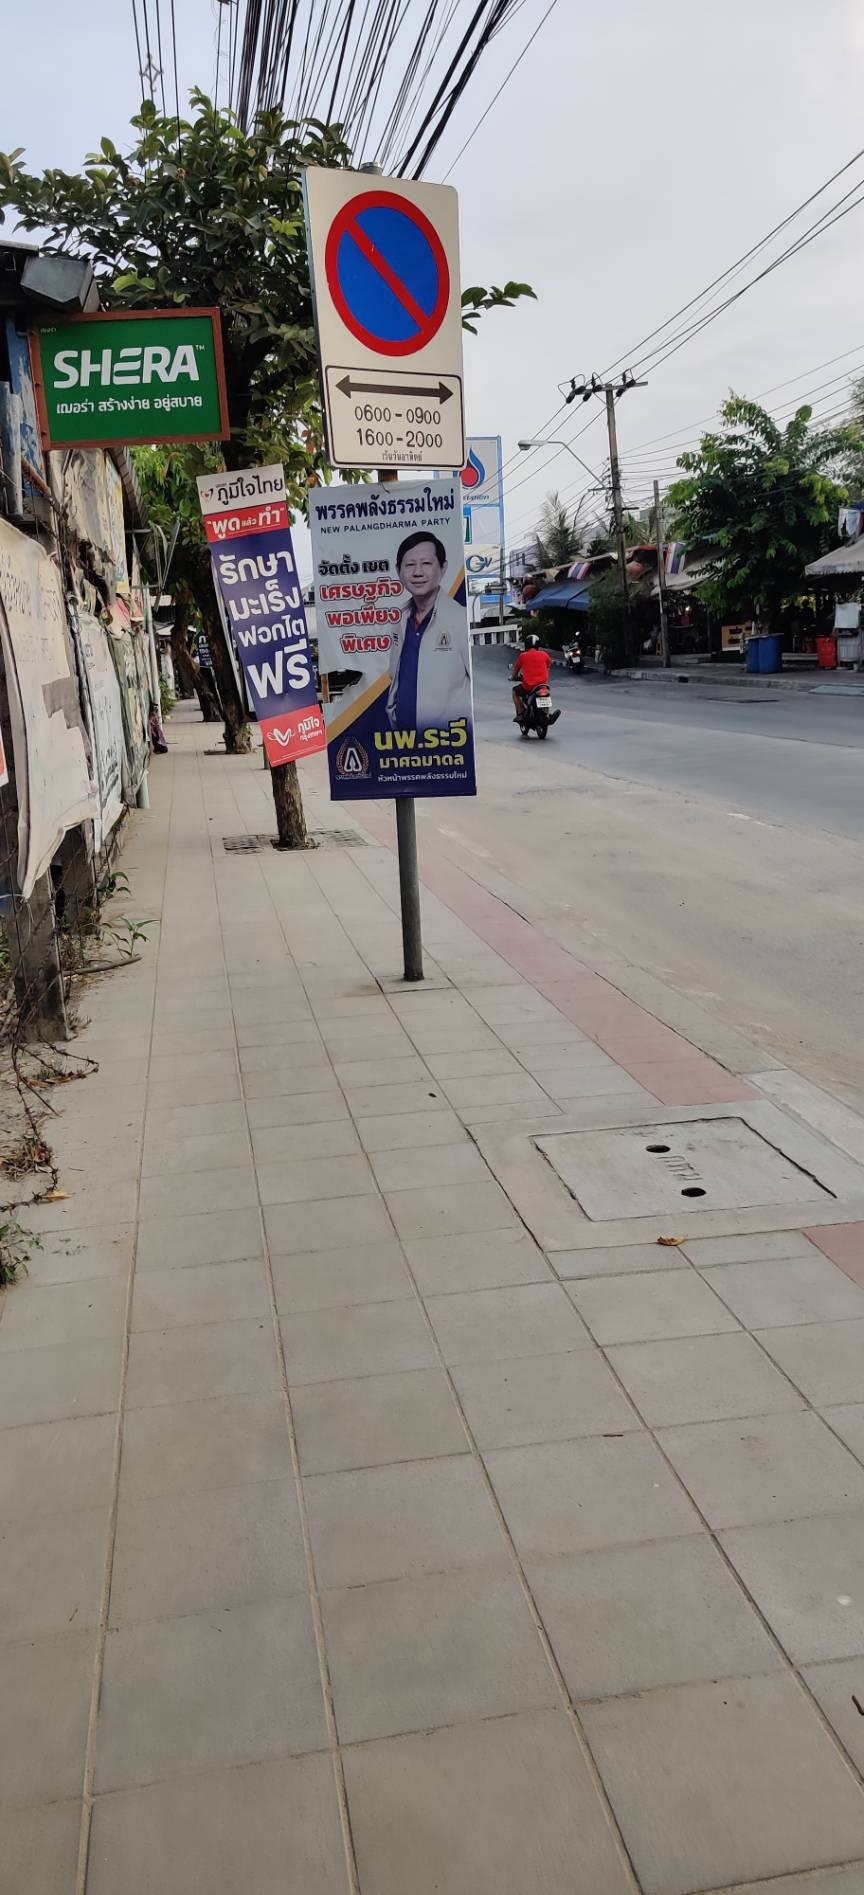Banner: (290, 483, 476, 795), (168, 473, 331, 773)
